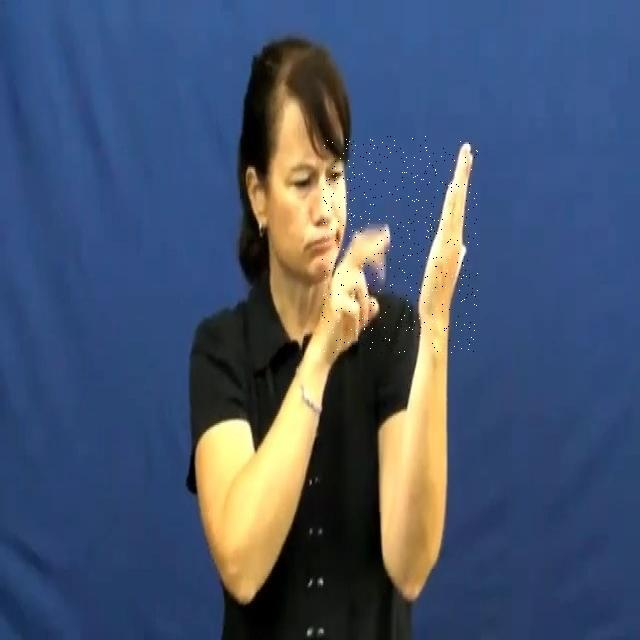menu: (322, 136, 478, 354)
